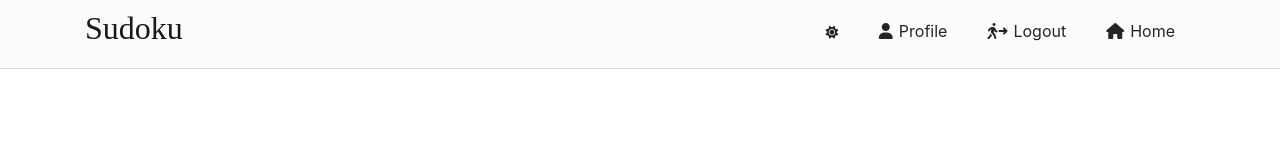
Test: renders login and logout buttons again on signout
Click the link "Logout" at coordinates (1027, 31), box [987,21,1066,41]
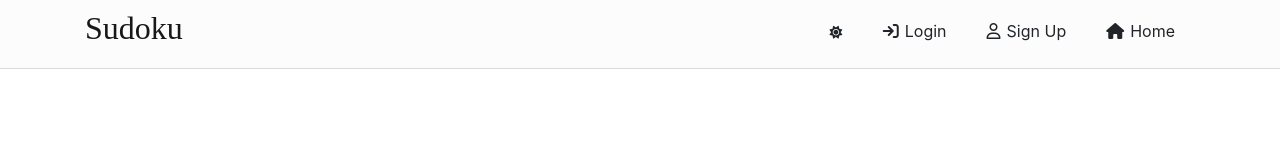
Now the link "Login" is shown, box [883,21,947,41]
